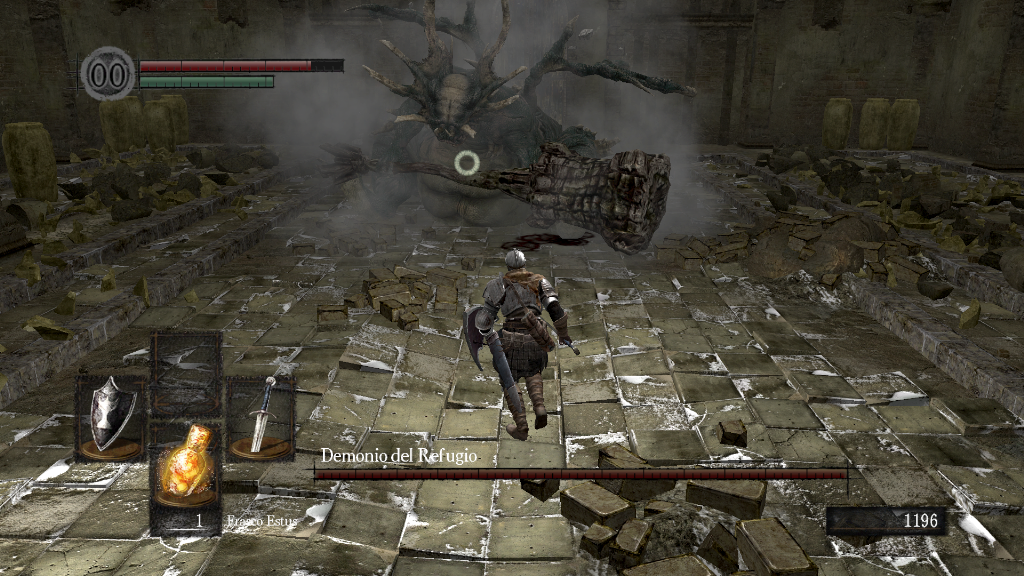asylumDemon: (322, 2, 700, 261)
bossHP: (314, 469, 847, 479)
health: (138, 58, 343, 71)
humanity: (80, 45, 136, 102)
player: (461, 242, 584, 444)
souls: (825, 506, 945, 536)
stamina: (138, 74, 274, 88)
